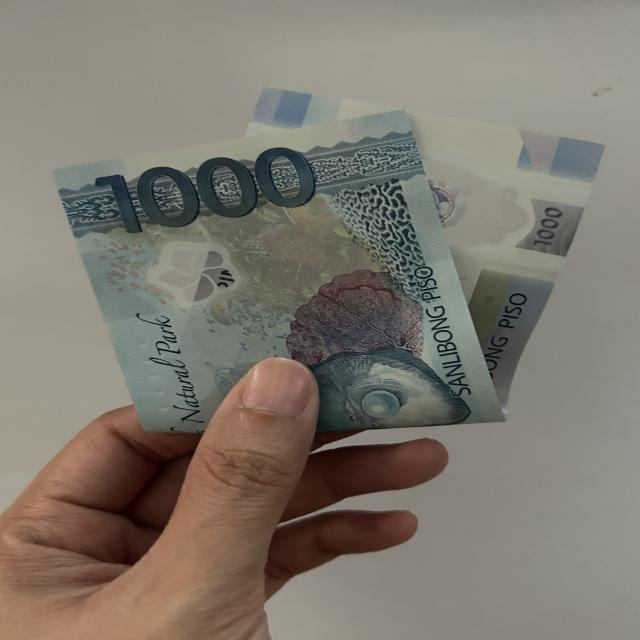clear_window: (426, 156, 546, 252)
sampaguita: (139, 237, 257, 306)
value: (85, 147, 360, 230)
